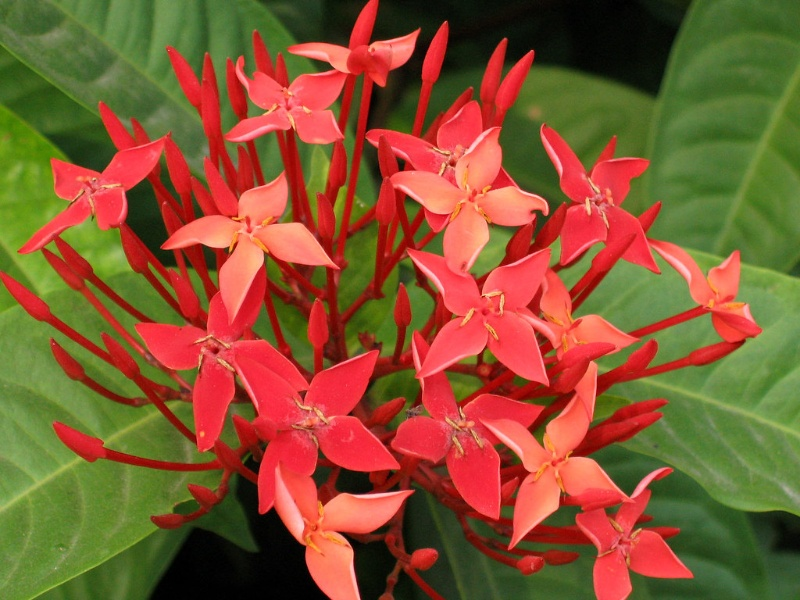Ixora: (5, 5, 769, 600)
